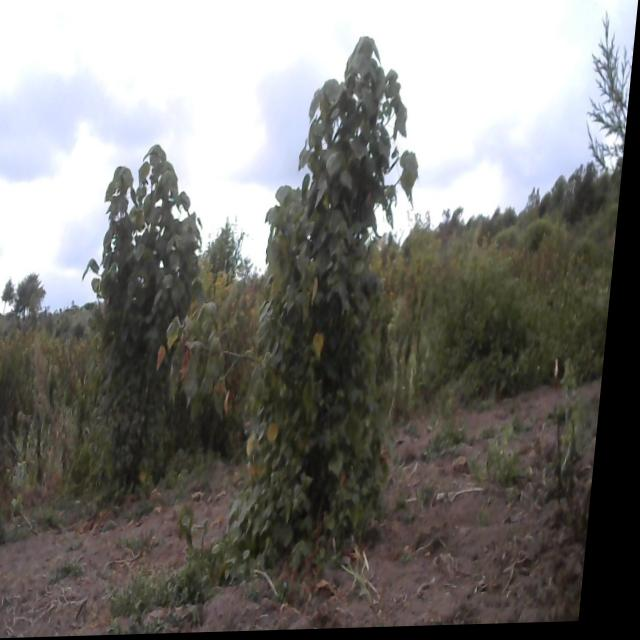Vitex keniensis: (249, 35, 432, 548), (83, 142, 223, 476)
